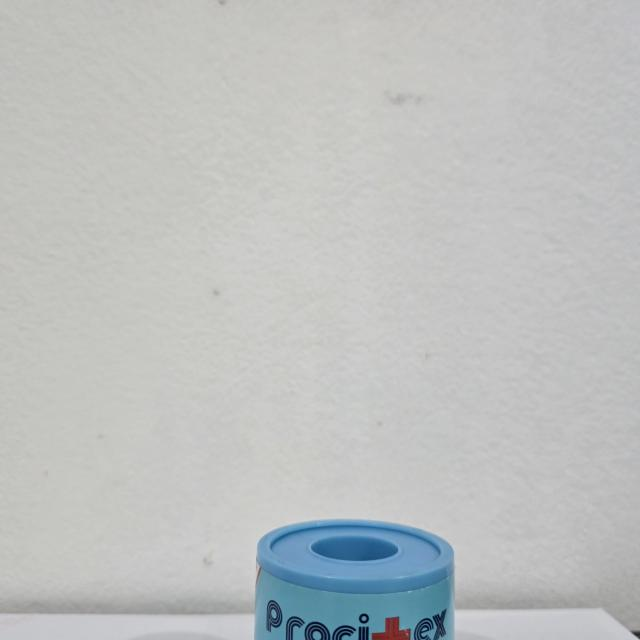procitex: (250, 511, 459, 640)
